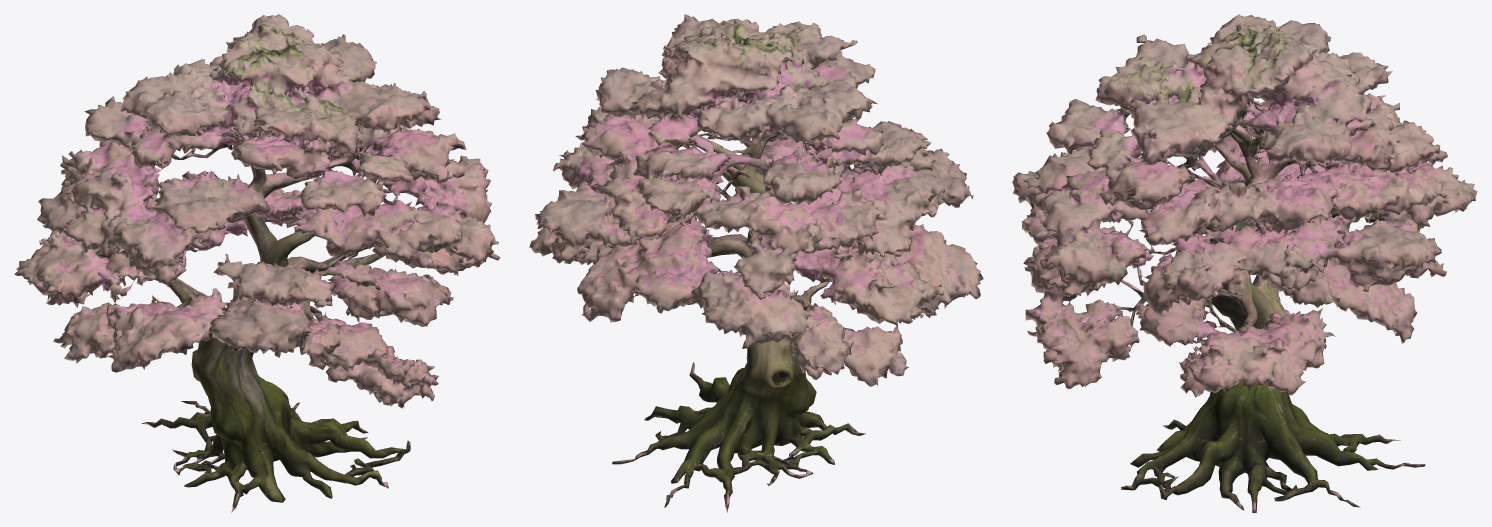
The model's file is Japanese_sakura_tree__1006220821_texture.glb.
3 views of the same model, side by side, from view 1: azimuth 30°, elevation 25°; view 2: azimuth 150°, elevation 25°; view 3: azimuth 270°, elevation 25° (orthographic). The views are drawn at different scales.
Bounding box in the file's own units: 1.82 × 1.8 × 1.71.
1 material, 1 textured.
